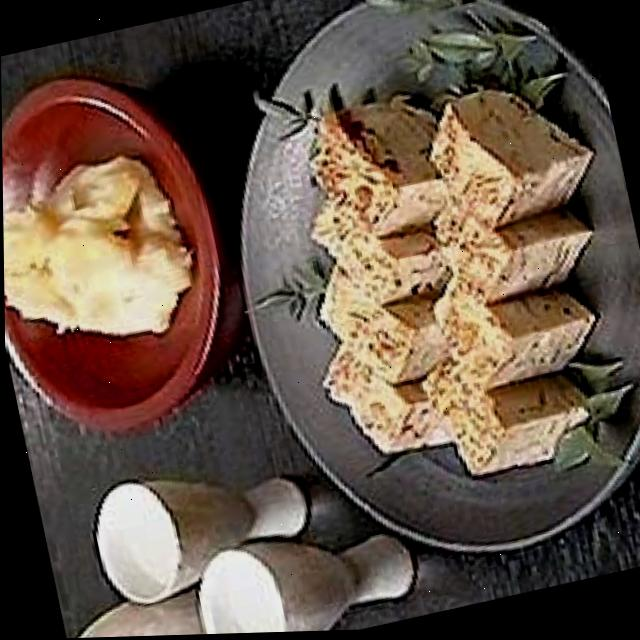鸡蛋料理: (274, 60, 640, 494)
